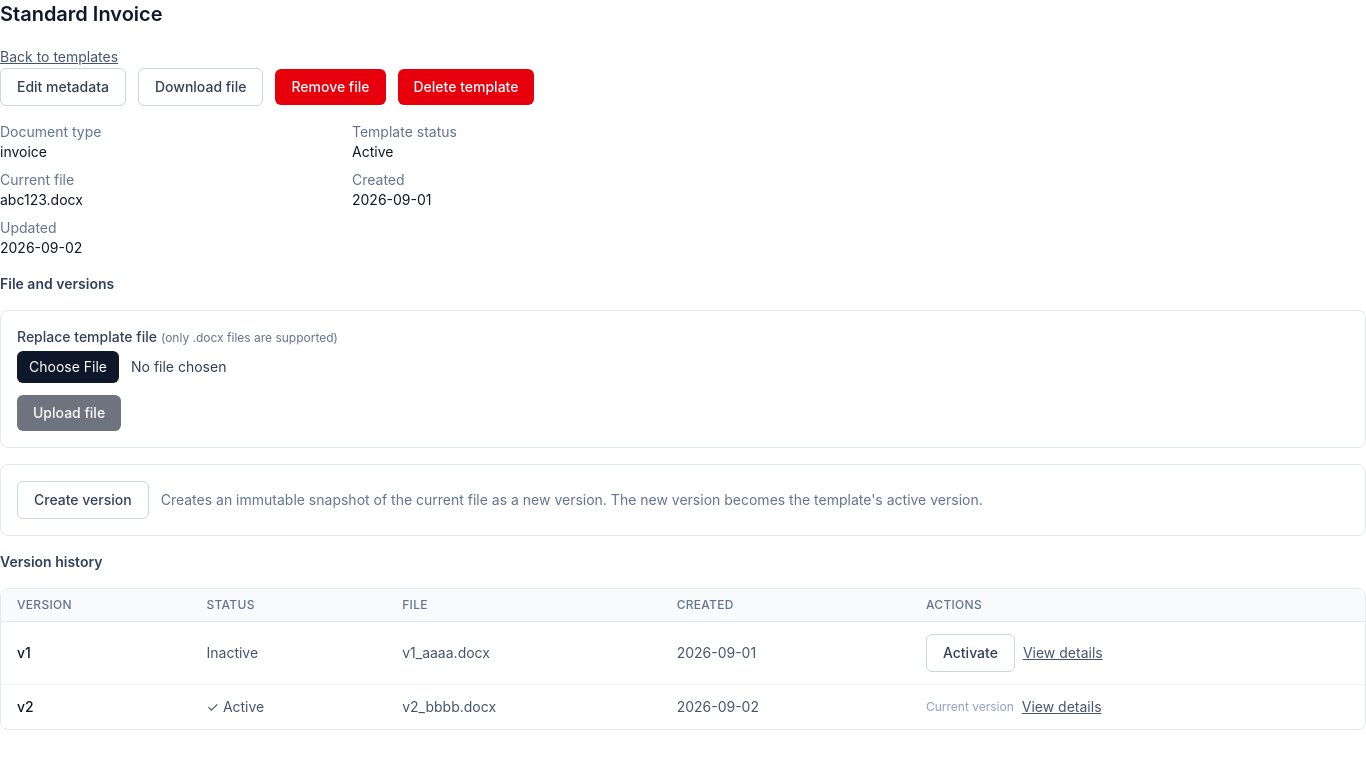
Test case: TemplateDetailPage › shows a safe error when activation fails
Check: the heading "Standard Invoice" is shown, box [0,2,163,26]
Click the button "Activate": (970, 653) [926,634,1015,672]
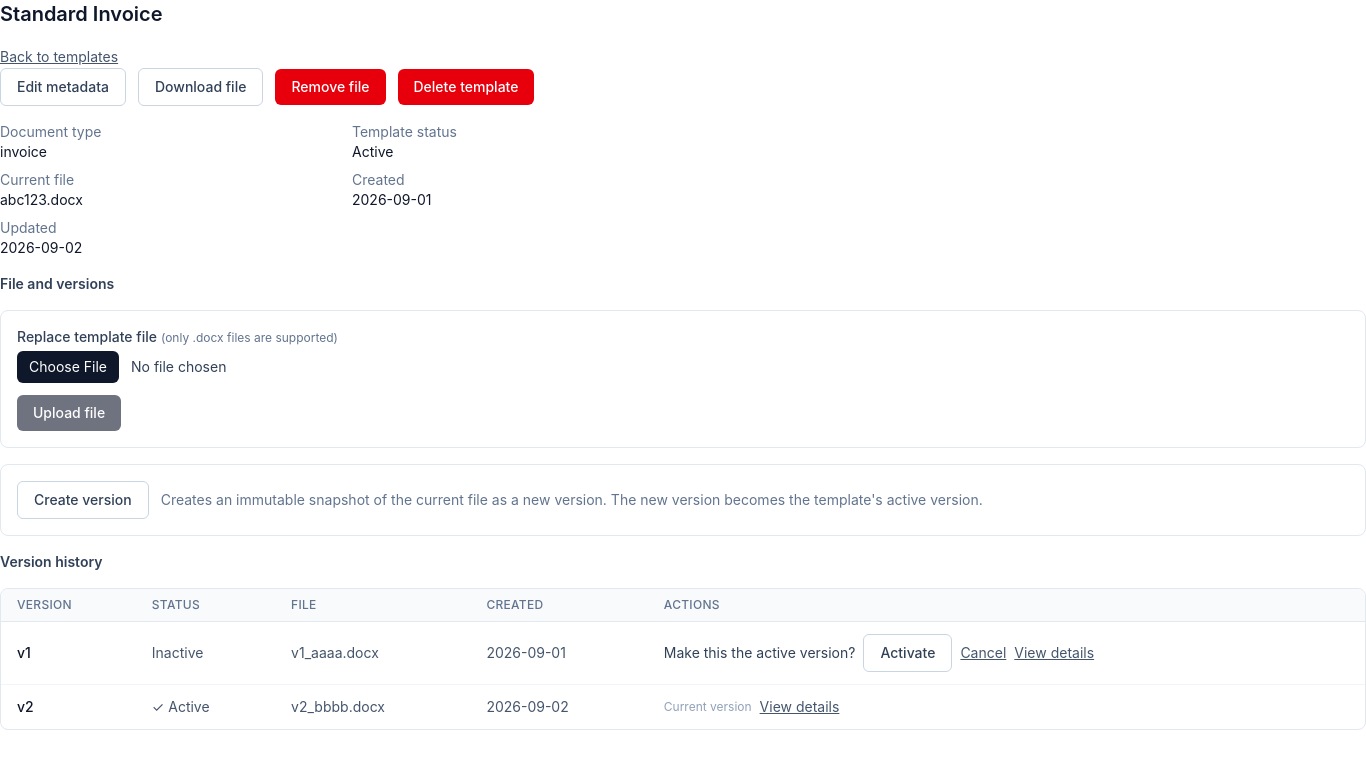
Click the button "Activate": (908, 653) [863,634,952,672]
(page scrolled)
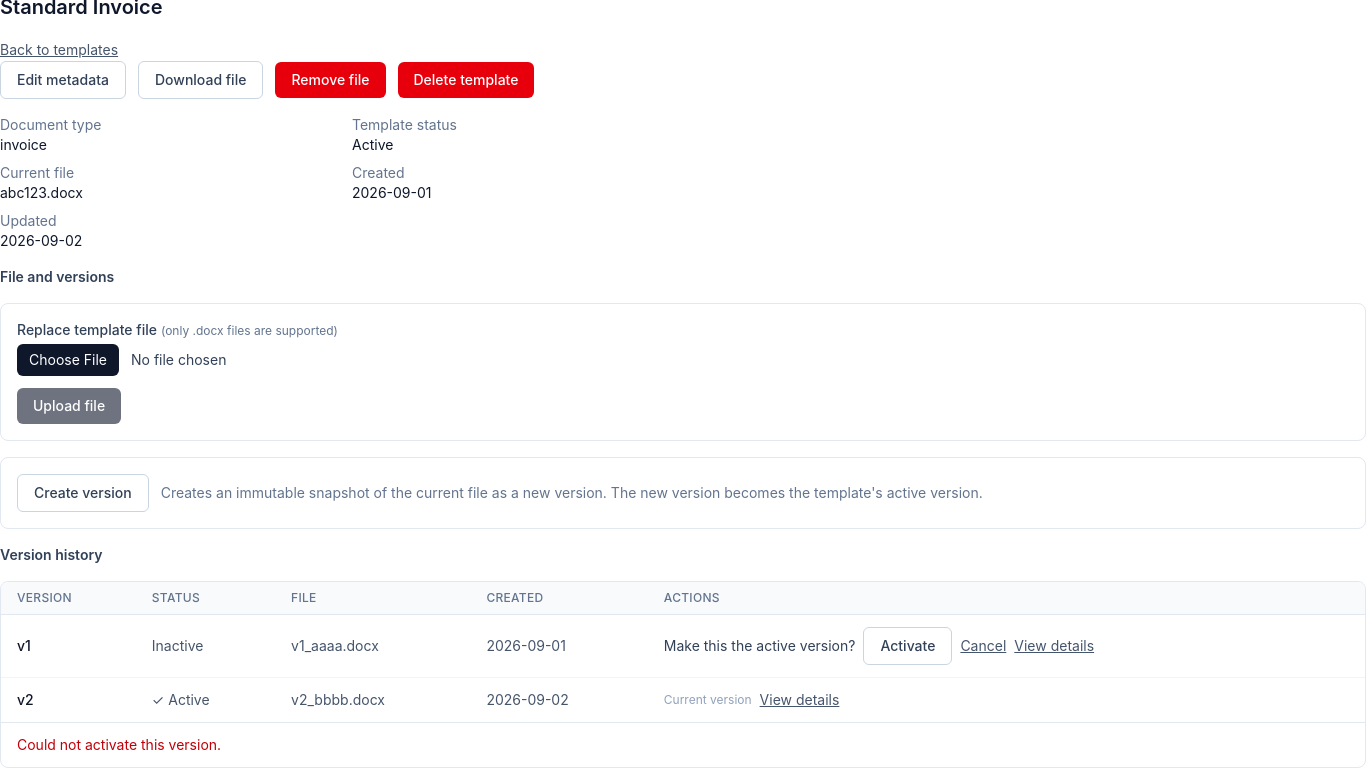
Check: the message shows "Could not activate this version", box [17,736,221,753]
